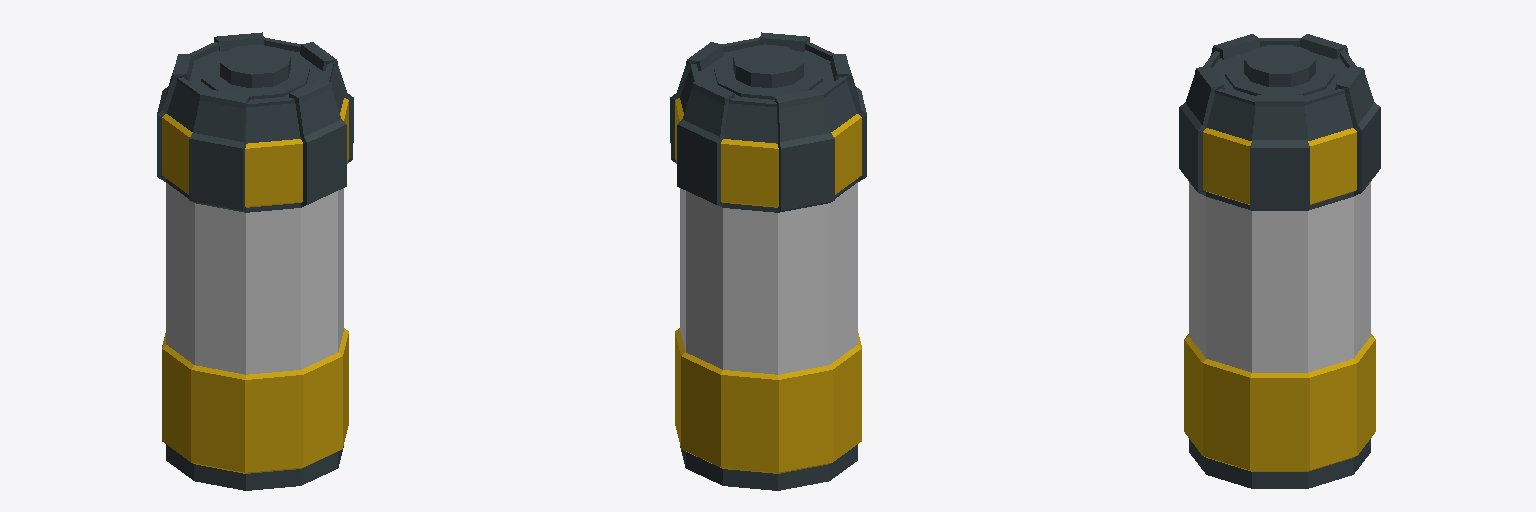
File: battery_transparent.obj
The picture shows the model from 3 angles: view 1: azimuth 30°, elevation 25°; view 2: azimuth 150°, elevation 25°; view 3: azimuth 270°, elevation 25°; orthographic projection.
Visible parts, largest first — view 1: Cylinder; view 2: Cylinder; view 3: Cylinder.
Part boxes in pixels (x1,y1,x2,y2): Cylinder: (157, 32, 353, 490); Cylinder: (670, 32, 866, 490); Cylinder: (1179, 34, 1380, 488).
Bounding box in the file's own units: 0.2002 × 0.4531 × 0.21.